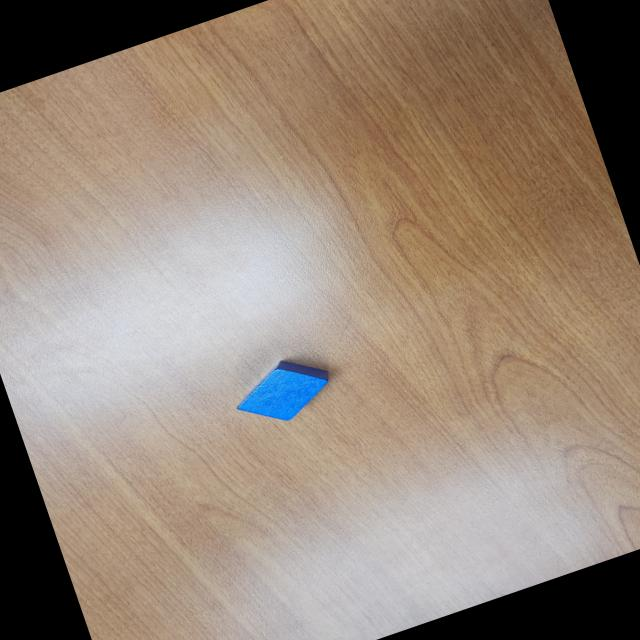blue: (228, 345, 342, 435)
